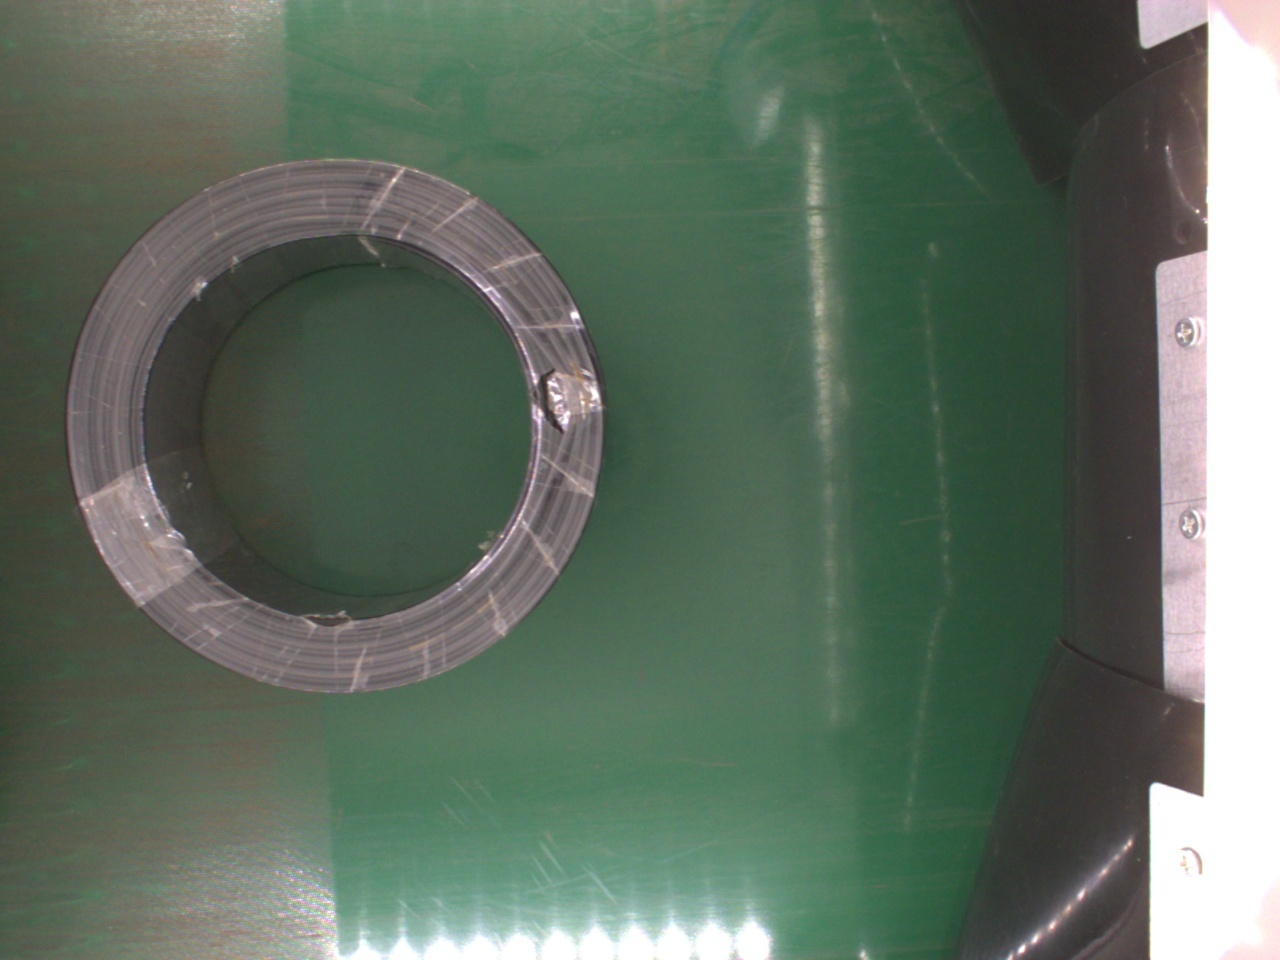black: (63, 160, 602, 697)
